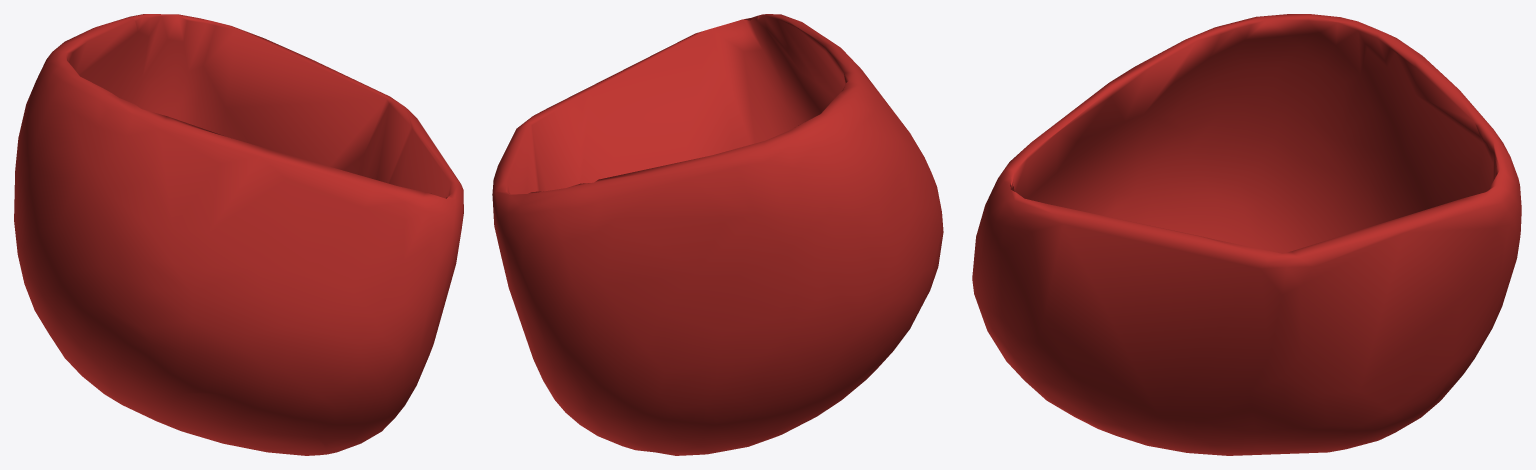
Rendered from circulatorio-right-semilunar-leaflet-of-pulmonary-valve.glb.
The picture shows the model from 3 angles, left to right: view 1: azimuth 30°, elevation 25°; view 2: azimuth 150°, elevation 25°; view 3: azimuth 270°, elevation 25°; orthographic projection.
Visible parts, largest first — view 1: Right semilunar leaflet of pulmonary valve; view 2: Right semilunar leaflet of pulmonary valve; view 3: Right semilunar leaflet of pulmonary valve.
Boxes of the visible parts, x1,y1,x2,y2 form: Right semilunar leaflet of pulmonary valve: [14, 14, 463, 455]; Right semilunar leaflet of pulmonary valve: [492, 14, 943, 455]; Right semilunar leaflet of pulmonary valve: [972, 14, 1521, 455].
Size of the model in its own units: 0.0194 by 0.0178 by 0.0248.
